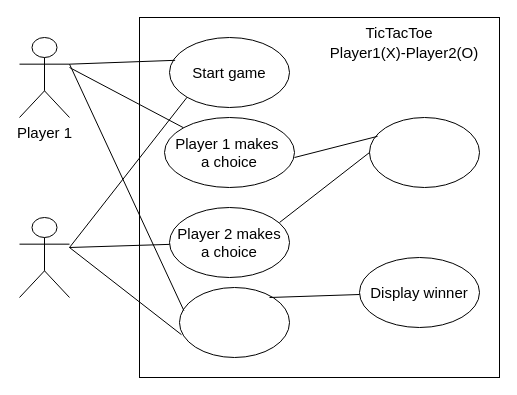
This 517x395 diagram has some shape labels left out. The centre of each missing label's shape, as x and y in pixels:
"Check for winner" goes at [234,322].
"Display Grid" goes at [424,152].
"Player 2" goes at [44,257].
